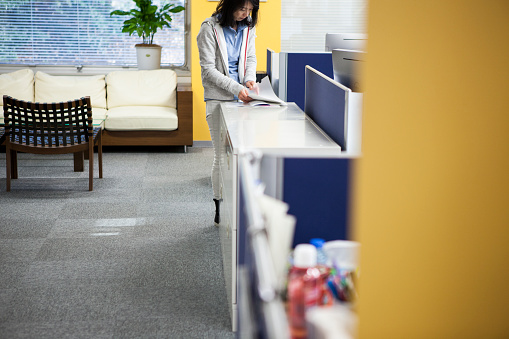em pe: (199, 0, 272, 191)
